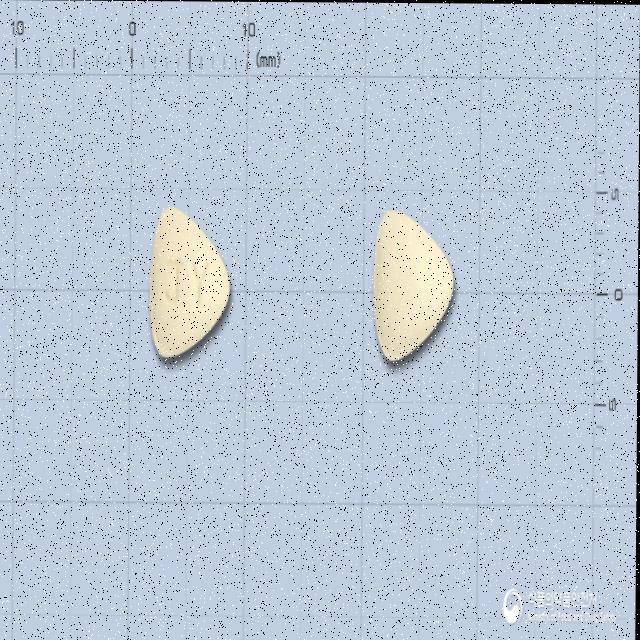Durova - 20mg: (148, 203, 232, 360)
